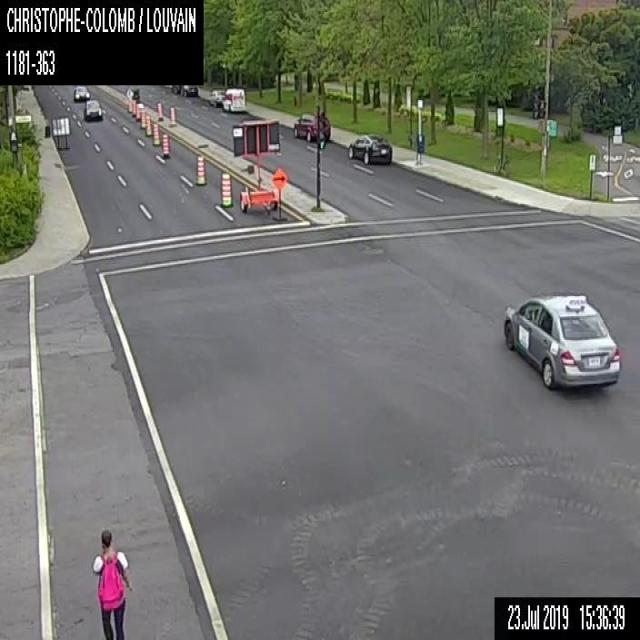construction: (232, 119, 280, 212), (271, 167, 288, 220), (219, 170, 232, 207), (194, 152, 206, 185), (60, 116, 70, 150), (52, 116, 61, 150), (144, 113, 152, 136), (162, 132, 169, 158), (152, 120, 159, 146), (168, 104, 175, 124), (140, 108, 146, 128), (157, 100, 163, 120), (135, 102, 141, 120), (132, 98, 137, 116), (128, 97, 132, 111)
pedestrian: (92, 529, 132, 639)
vehicle: (502, 291, 621, 388), (347, 133, 392, 164), (292, 110, 330, 142), (221, 87, 246, 111), (84, 98, 103, 121), (171, 83, 198, 97), (207, 88, 225, 106), (73, 84, 90, 100)
